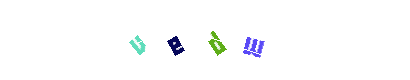D: (169, 0, 249, 80)
E: (165, 0, 245, 80)
V: (135, 0, 215, 80)
W: (176, 0, 256, 80)
